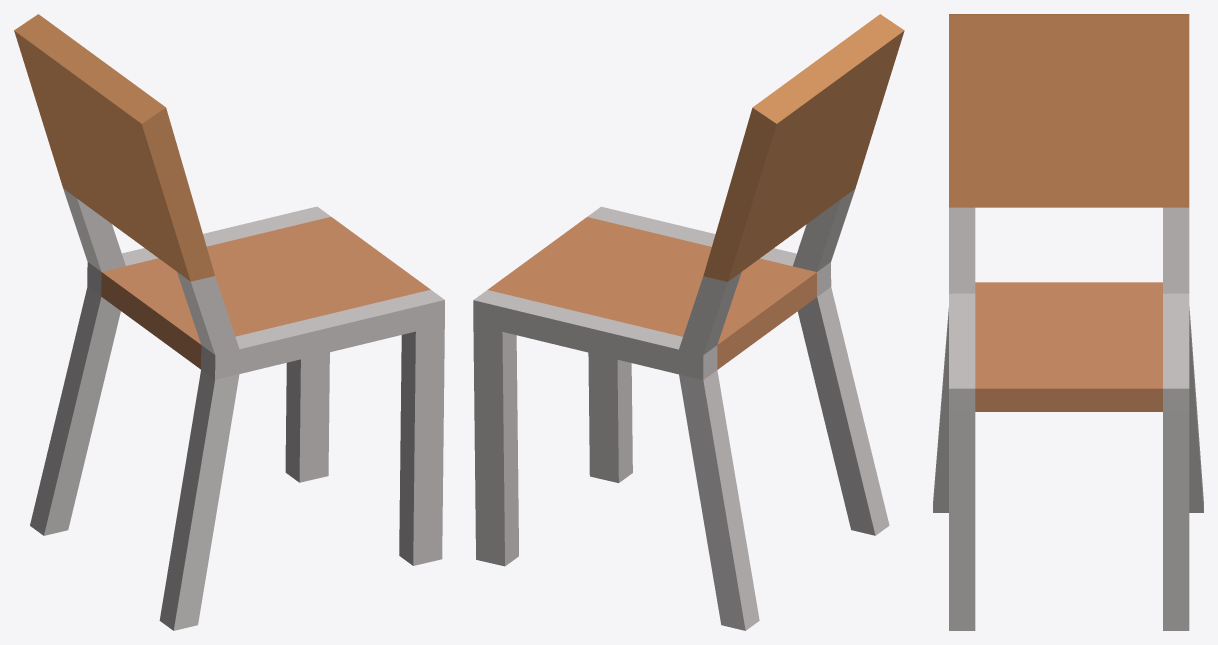
The model's file is sillaChica.fbx.
3 views of the same model, side by side, from view 1: azimuth 30°, elevation 25°; view 2: azimuth 150°, elevation 25°; view 3: azimuth 270°, elevation 25° (orthographic). The views are drawn at different scales.
Parts seen in each view (by area): view 1: Cubo; view 2: Cubo; view 3: Cubo.
Boxes of the visible parts, left/top/right/bottom form: Cubo: left=14, top=14, right=444, bottom=630; Cubo: left=473, top=14, right=904, bottom=630; Cubo: left=933, top=14, right=1203, bottom=630.
Size of the model in its own units: 46.06 by 75.36 by 37.84.
